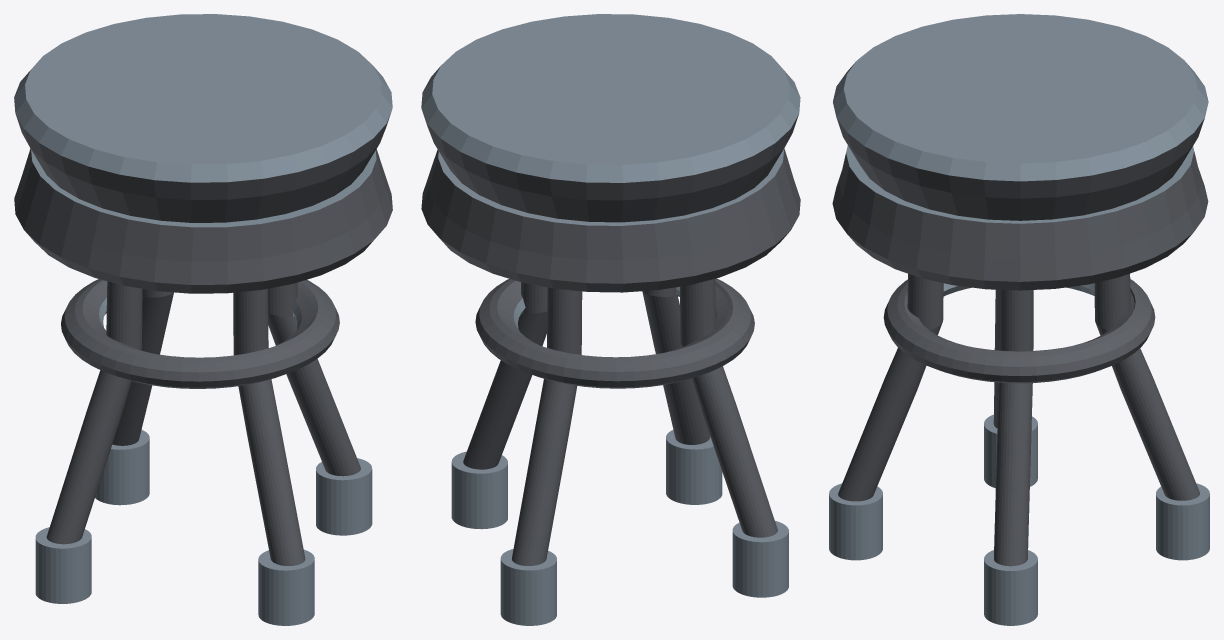
The model's file is stool.fbx.
3 views of the same model, side by side, from view 1: azimuth 30°, elevation 25°; view 2: azimuth 150°, elevation 25°; view 3: azimuth 270°, elevation 25° (orthographic).
Parts seen in each view (by area): view 1: stool; view 2: stool; view 3: stool.
Part boxes in pixels (x1,y1,x2,y2): stool: (14, 14, 392, 625); stool: (421, 14, 800, 625); stool: (829, 14, 1209, 625).
Size of the model in its own units: 195 by 259 by 194.
